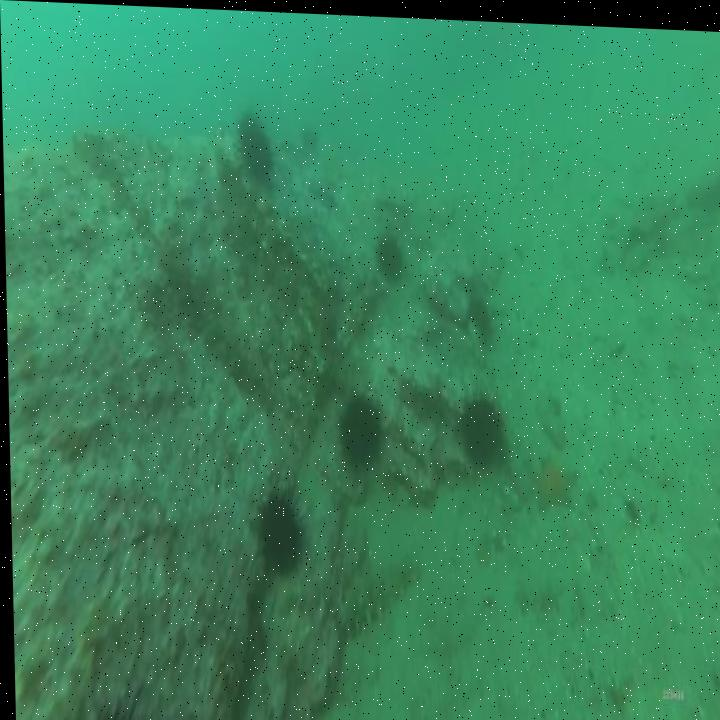echinus: (251, 488, 304, 572), (336, 390, 382, 465), (457, 392, 504, 464), (237, 111, 276, 182), (375, 232, 402, 279), (465, 293, 492, 339)
holothurian: (328, 551, 429, 631), (512, 576, 564, 620)
starfish: (528, 445, 576, 503)
